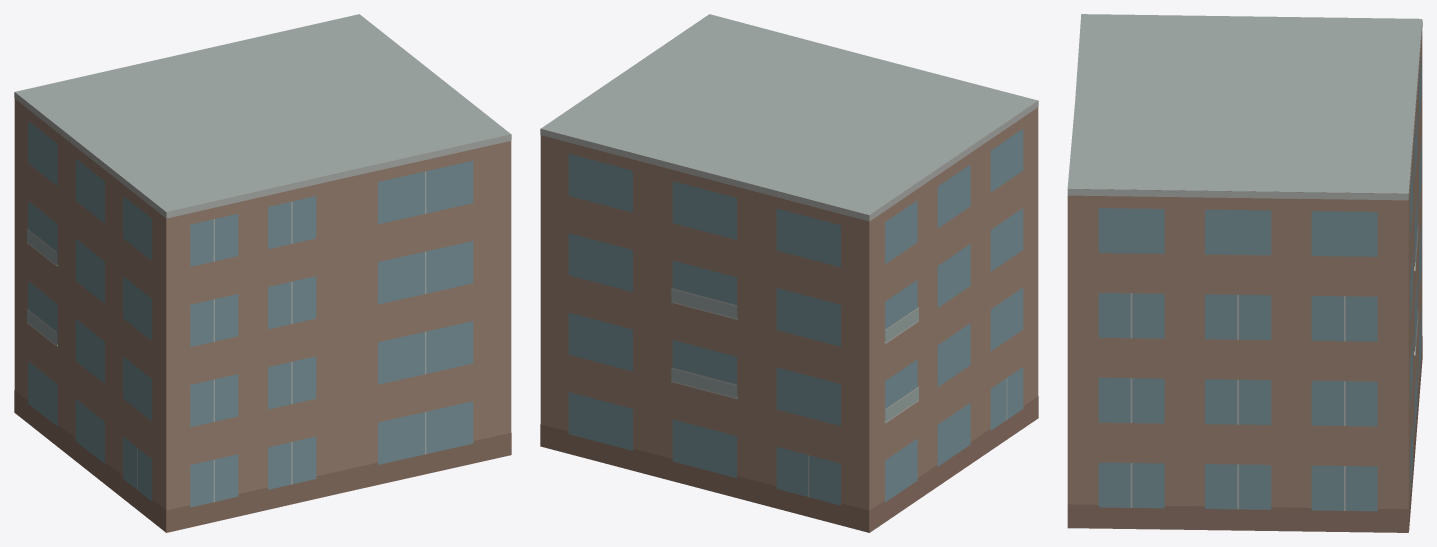
The model's file is residential-60c76755-3fb4-4728-a80a-b312ee6ec2bc.glb.
The picture shows the model from 3 angles, left to right: view 1: azimuth 30°, elevation 25°; view 2: azimuth 150°, elevation 25°; view 3: azimuth 270°, elevation 25°; orthographic projection. The views are drawn at different scales.
Parts seen in each view (by area): view 1: residential-60c76755-3fb4-4728-a80a-b312ee6ec2bc.tmp; view 2: residential-60c76755-3fb4-4728-a80a-b312ee6ec2bc.tmp; view 3: residential-60c76755-3fb4-4728-a80a-b312ee6ec2bc.tmp.
Part boxes in pixels (bbox=[...]): residential-60c76755-3fb4-4728-a80a-b312ee6ec2bc.tmp: bbox=[14, 14, 511, 532]; residential-60c76755-3fb4-4728-a80a-b312ee6ec2bc.tmp: bbox=[540, 14, 1038, 532]; residential-60c76755-3fb4-4728-a80a-b312ee6ec2bc.tmp: bbox=[1067, 14, 1422, 532].
Size of the model in its own units: 13.86 by 12.2 by 11.58.
